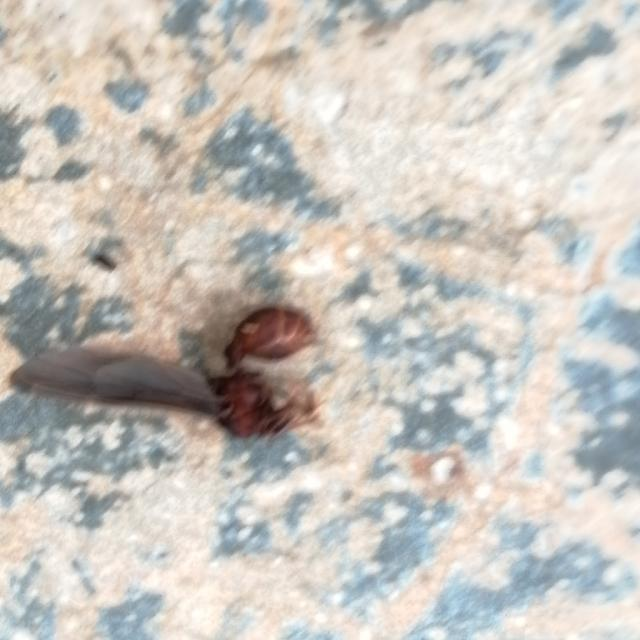Dead-Female-Alate: (9, 306, 331, 443)
